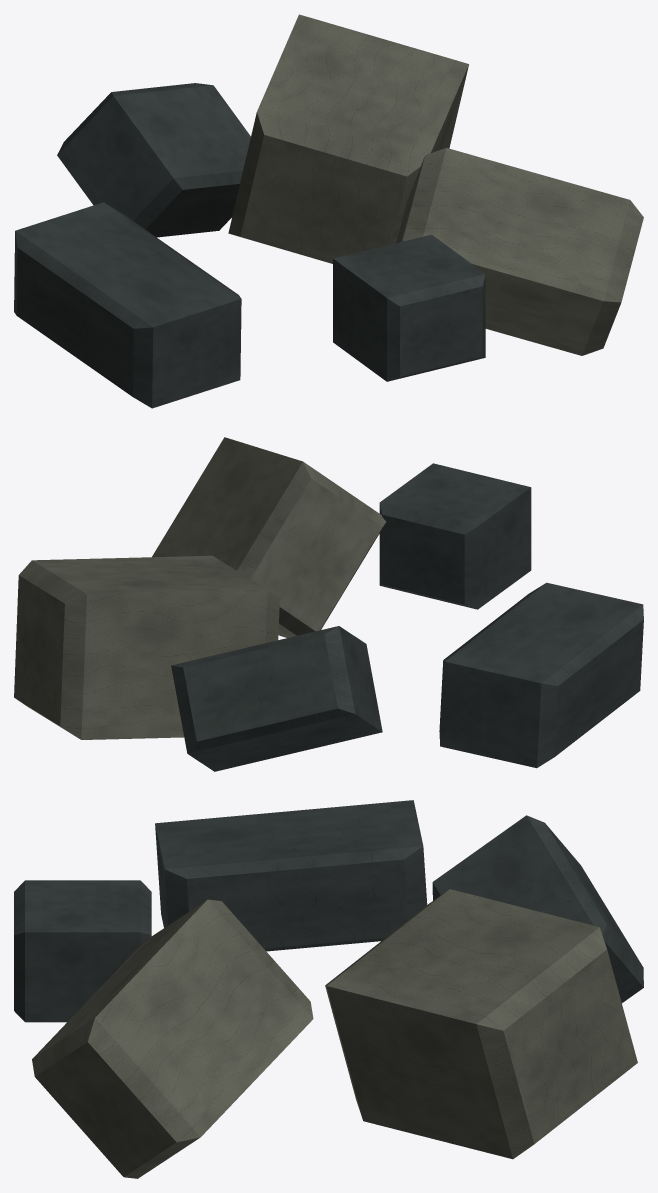
File: rubble.glb
3 renders of one model, top to bottom at view 1: azimuth 30°, elevation 25°; view 2: azimuth 150°, elevation 25°; view 3: azimuth 270°, elevation 25°, orthographic. The views are drawn at different scales.
Parts seen in each view (by area): view 1: stone-fragment (×5); view 2: stone-fragment (×5); view 3: stone-fragment (×5).
Boxes of the visible parts, x1=… form: stone-fragment (×5): x1=14, y1=14, x2=643, y2=408; stone-fragment (×5): x1=14, y1=437, x2=643, y2=771; stone-fragment (×5): x1=14, y1=800, x2=643, y2=1178.
Size of the model in its own units: 0.824 by 0.325 by 0.8236.
Materials: 2 (2 with a texture image).
